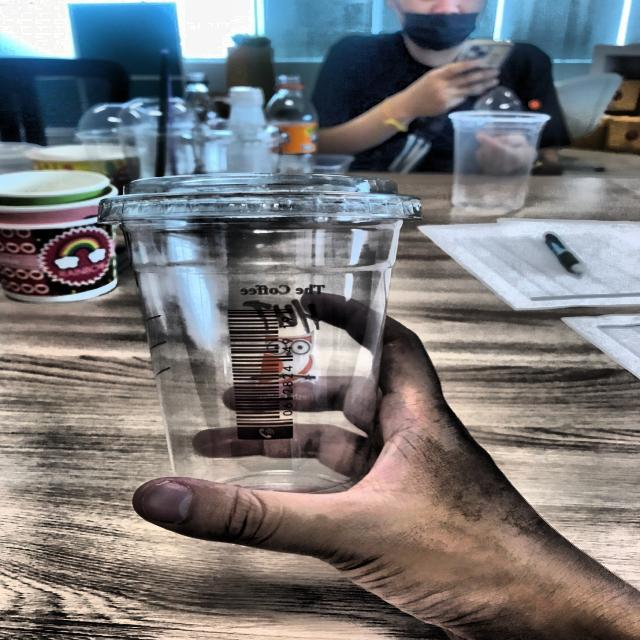plastic cup: (78, 156, 469, 544)
